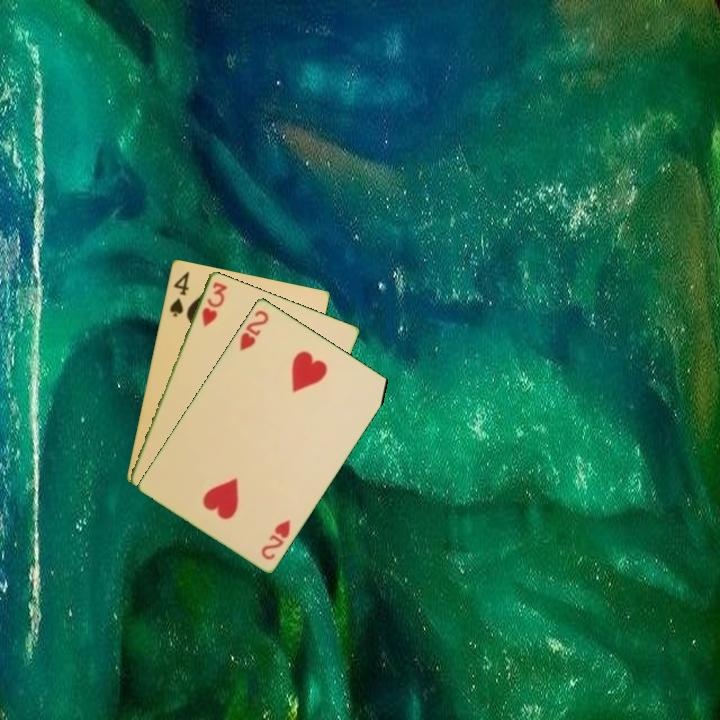2h: (236, 306, 272, 354), (257, 516, 293, 563)
3h: (198, 278, 230, 329)
4s: (166, 267, 192, 319)
